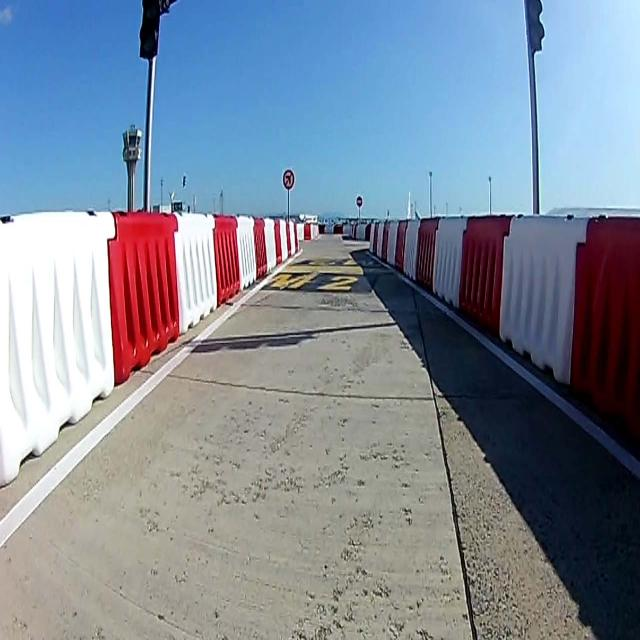soladonulmez: (283, 170, 295, 190)
